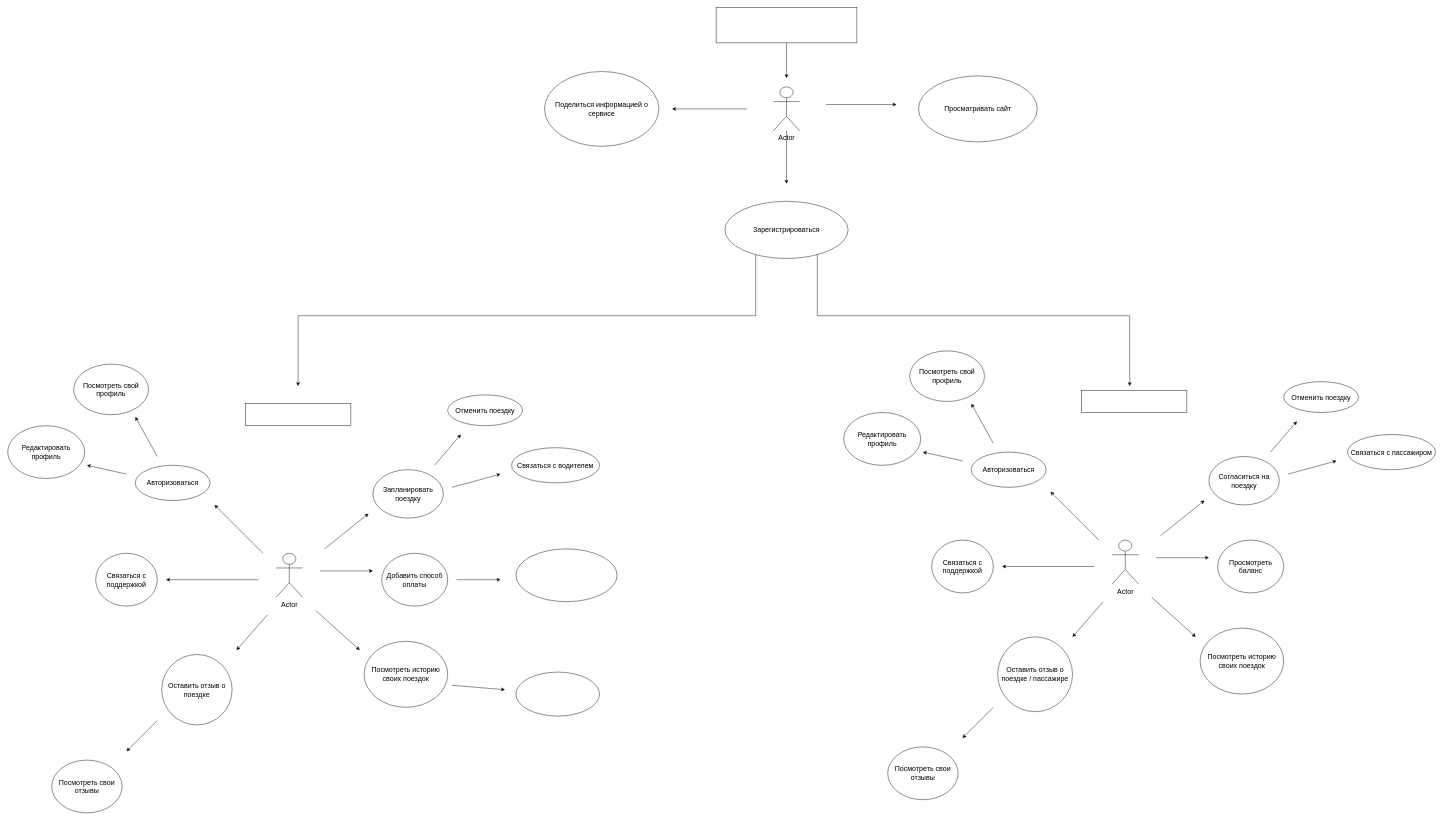
The diagram is 1443 pixels wide and 821 high, and some of its shapes have lost their labels. The shapes that lost their labels are listed below. From the top down, each one's centre as x and y in pixels, then its label:
(x=786, y=25): Незарегистрированный пользователь
(x=298, y=414): Пользователь - пассажир
(x=1134, y=401): Пользователь - водитель
(x=566, y=575): Редактировать / Удалить способ оплаты
(x=557, y=694): Повторить поездку
